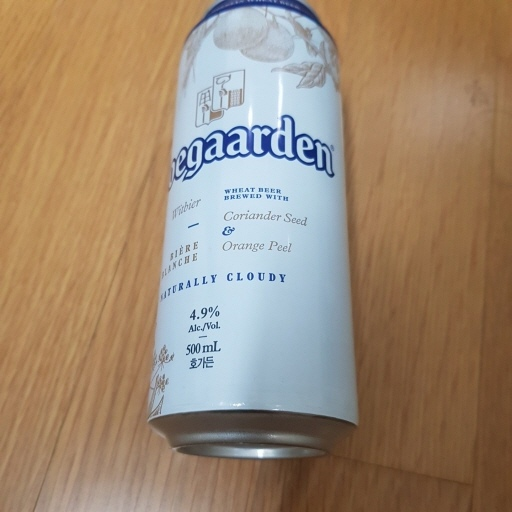Metal_0: (145, 1, 360, 459)
